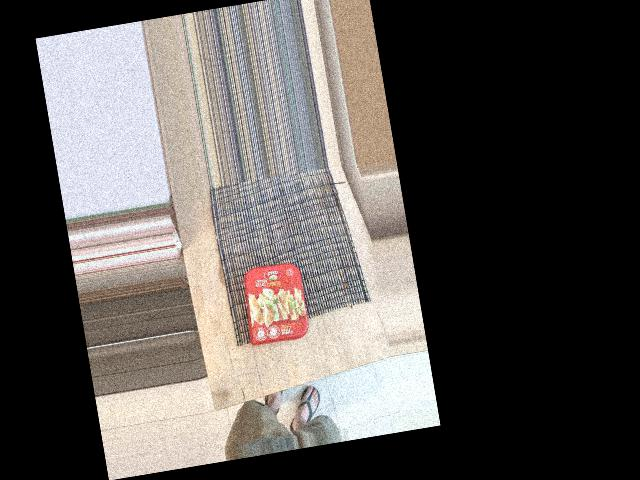cheese: (228, 253, 320, 381)
